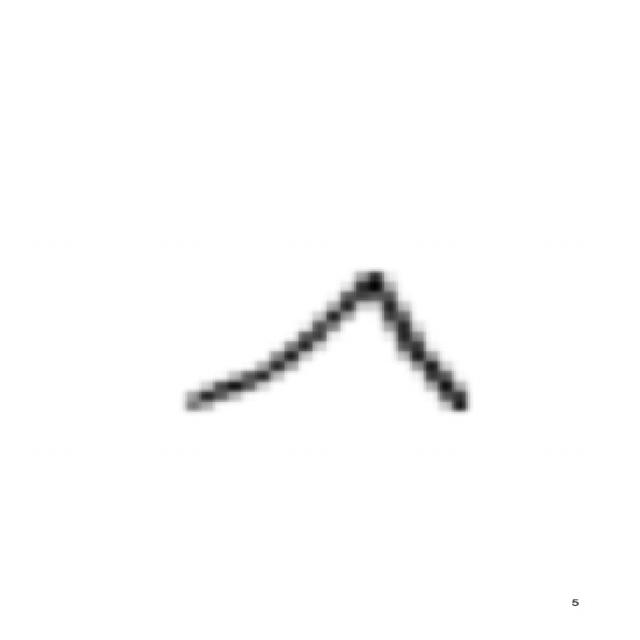8 -eight-: (159, 250, 506, 438)
